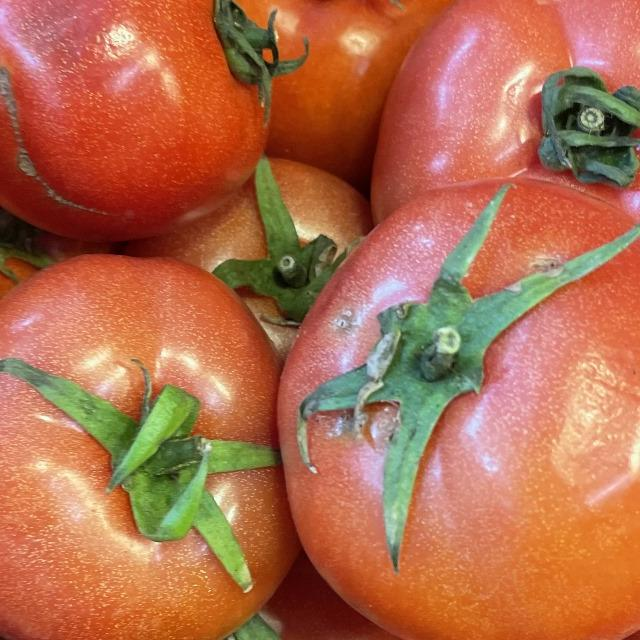tomato: (220, 150, 640, 640), (0, 205, 292, 640), (0, 0, 307, 225)
